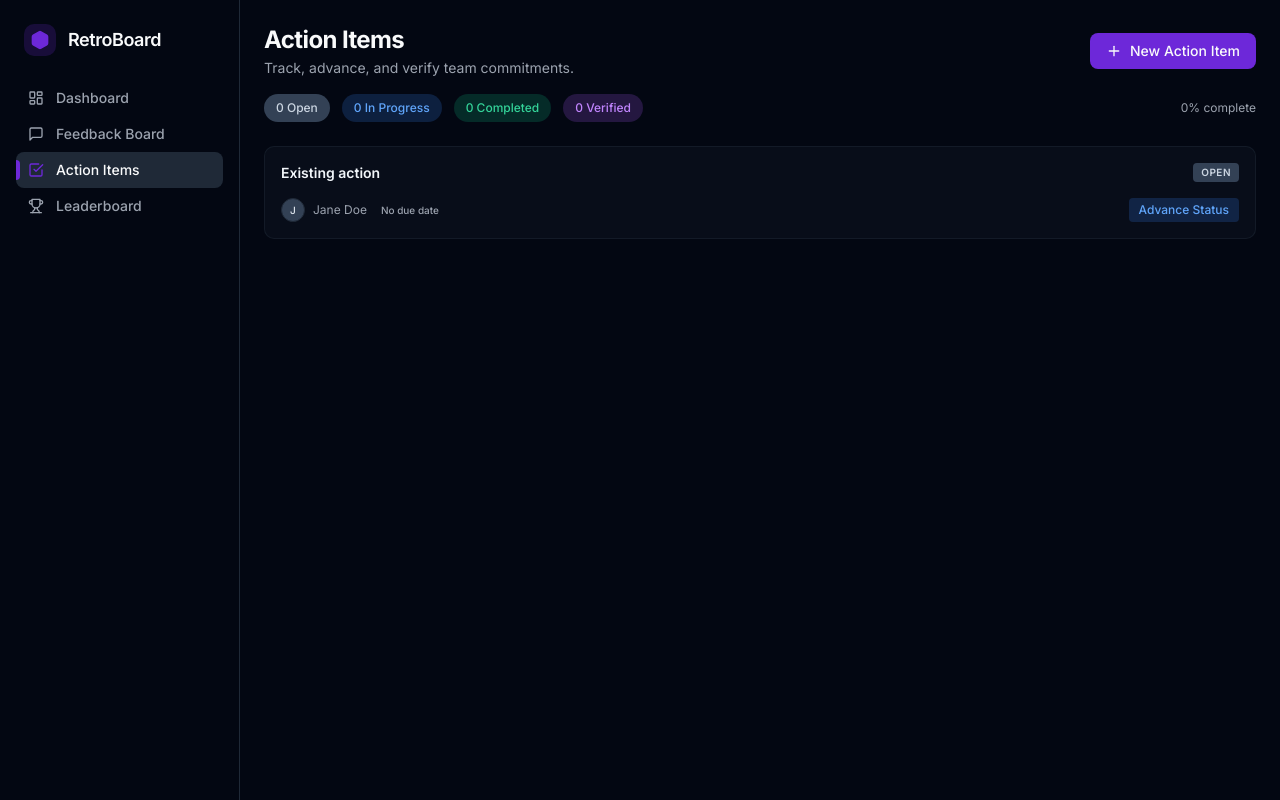
Test case: AI-14: open-new-action-btn → modal opens; submit disabled; title typed → enabled; Cancel → closes
The width and height of the screenshot is (1280, 800).
Click the header "+ New Action Item" button
Click the button with test id "open-new-action-btn": click(1173, 51) x1=1090 y1=33 x2=1256 y2=69
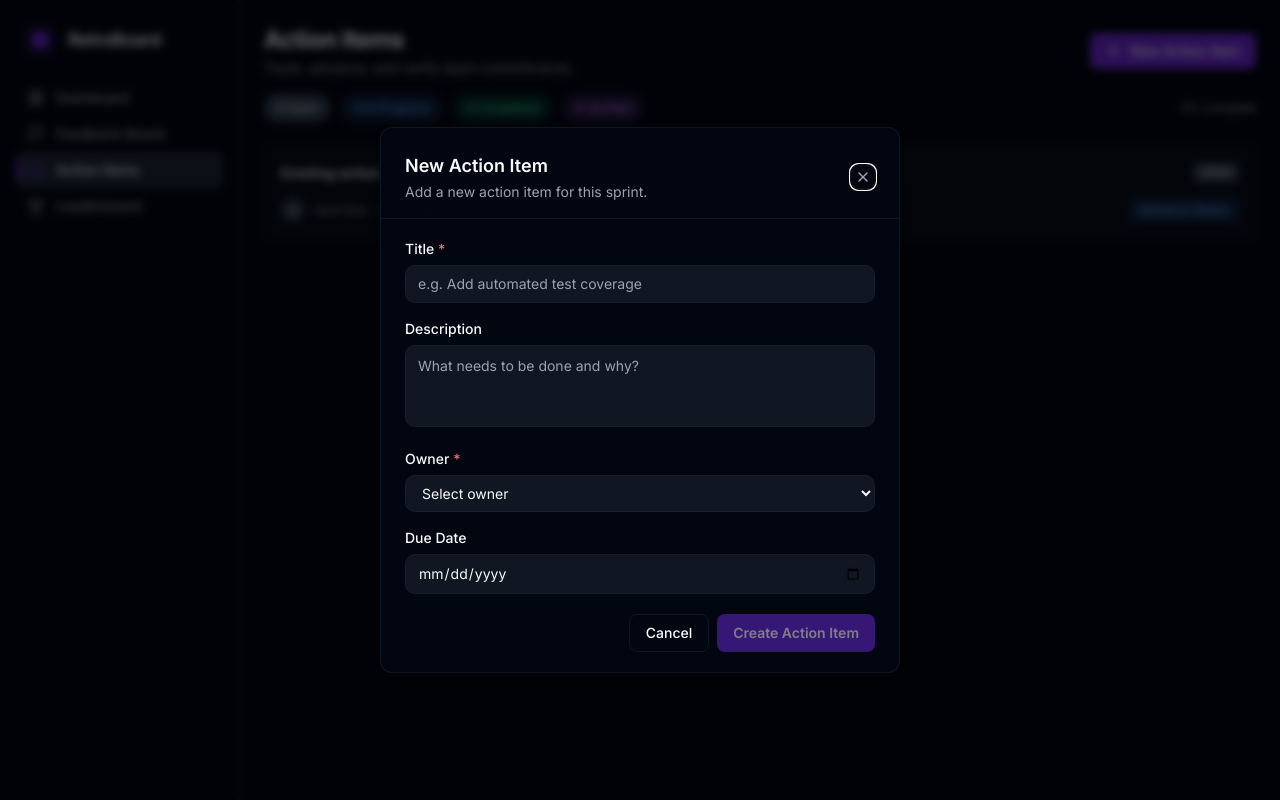
Expected: the dialog with test id "new-action-modal" is shown, x1=380 y1=127 x2=900 y2=673
Expected: the button with test id "new-action-submit-btn" is disabled, x1=717 y1=614 x2=875 y2=652
Type a title AND select an owner → submit becomes enabled
In the field with placeholder "e.g. Add automated test coverage": (640, 284) x1=405 y1=265 x2=875 y2=303, type "Fix the auth timeout issue"
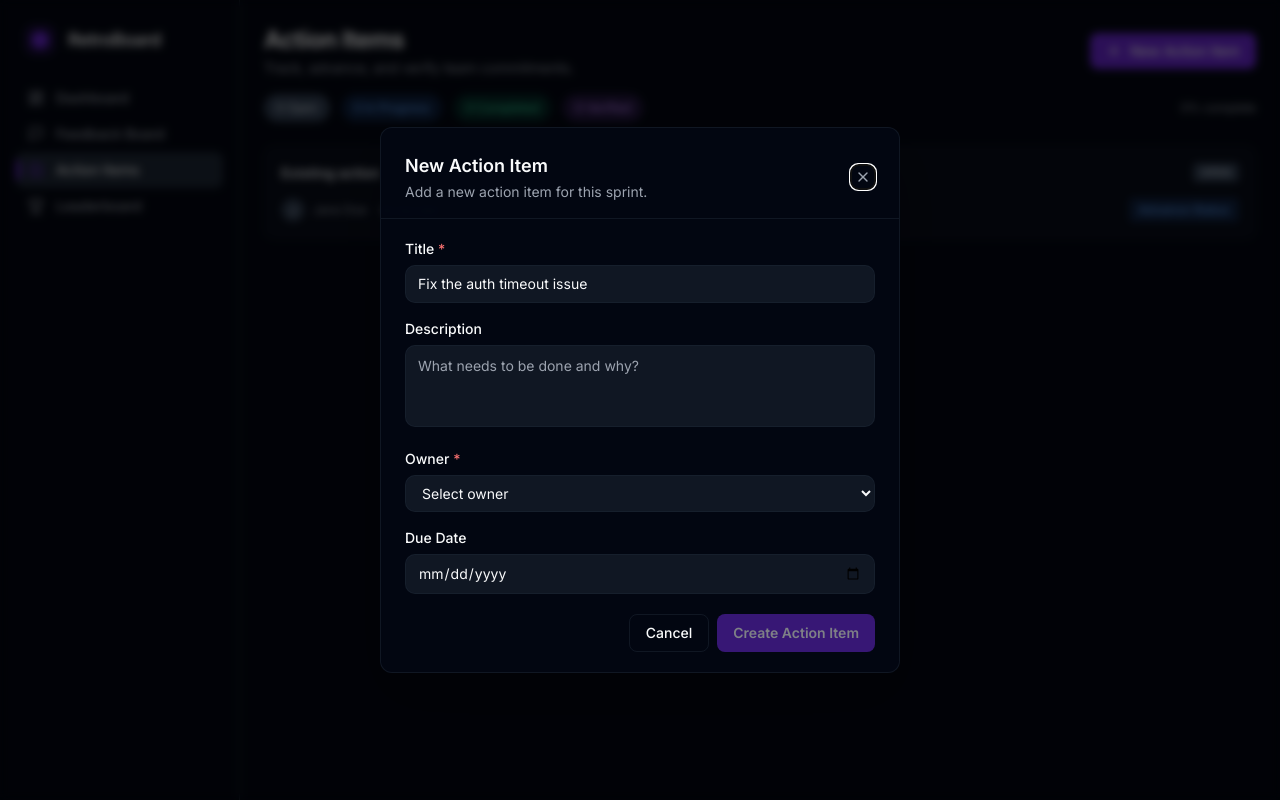
Select "Jane Doe" in the dropdown: (640, 494) x1=405 y1=475 x2=875 y2=512
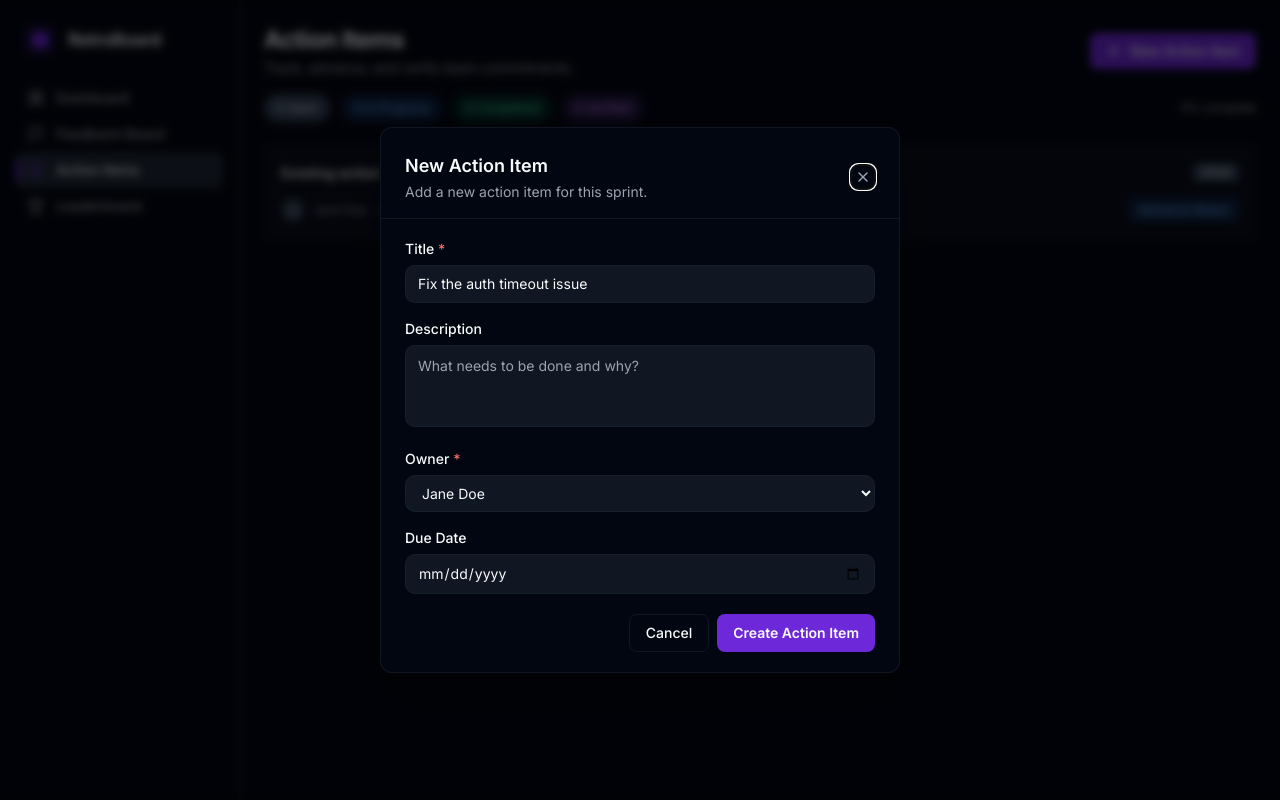
Expected: the button with test id "new-action-submit-btn" is enabled, x1=717 y1=614 x2=875 y2=652
Click Cancel → modal removed
Click the button "Cancel": click(669, 633) x1=629 y1=614 x2=709 y2=652
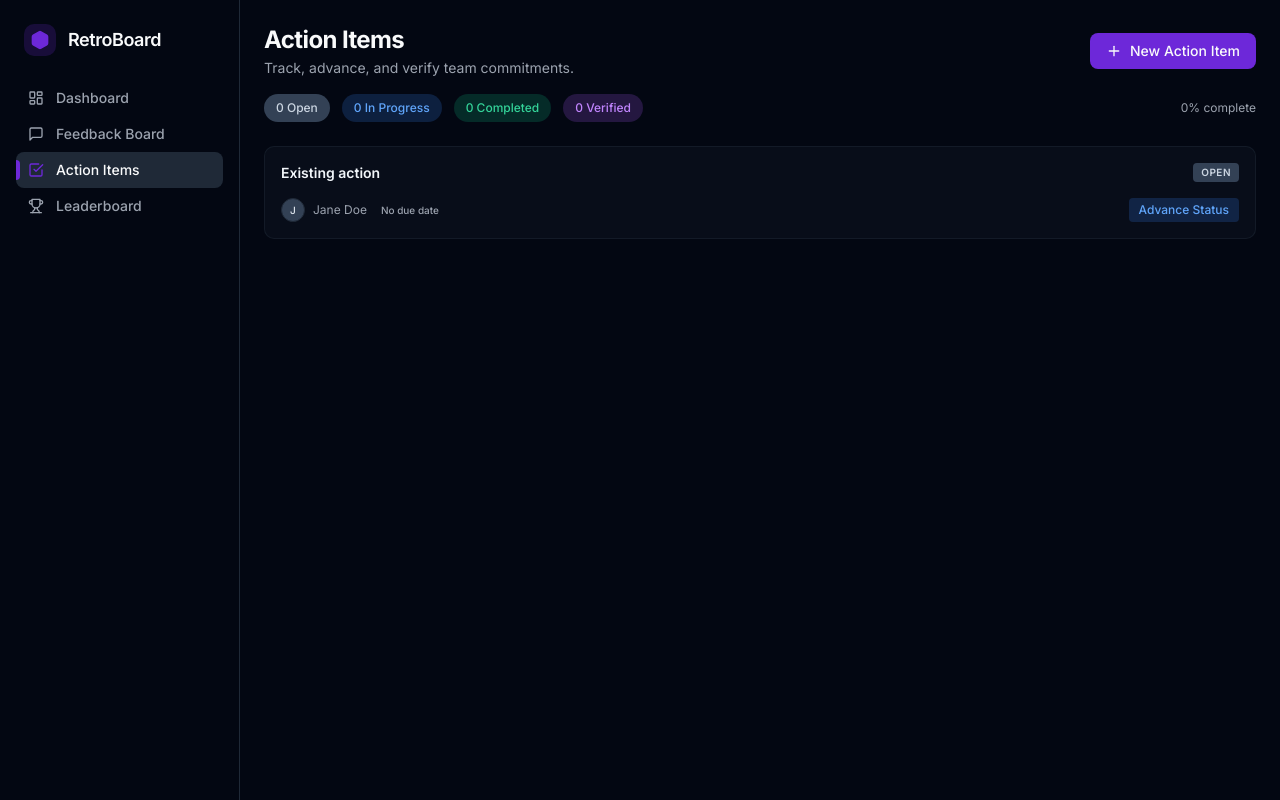
Expected: the dialog with test id "new-action-modal" is gone
